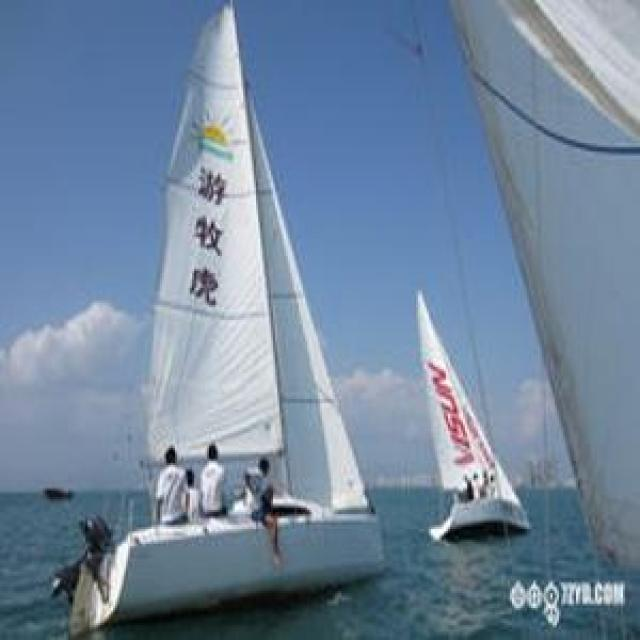sailboat: (53, 0, 390, 621), (406, 283, 534, 537)
